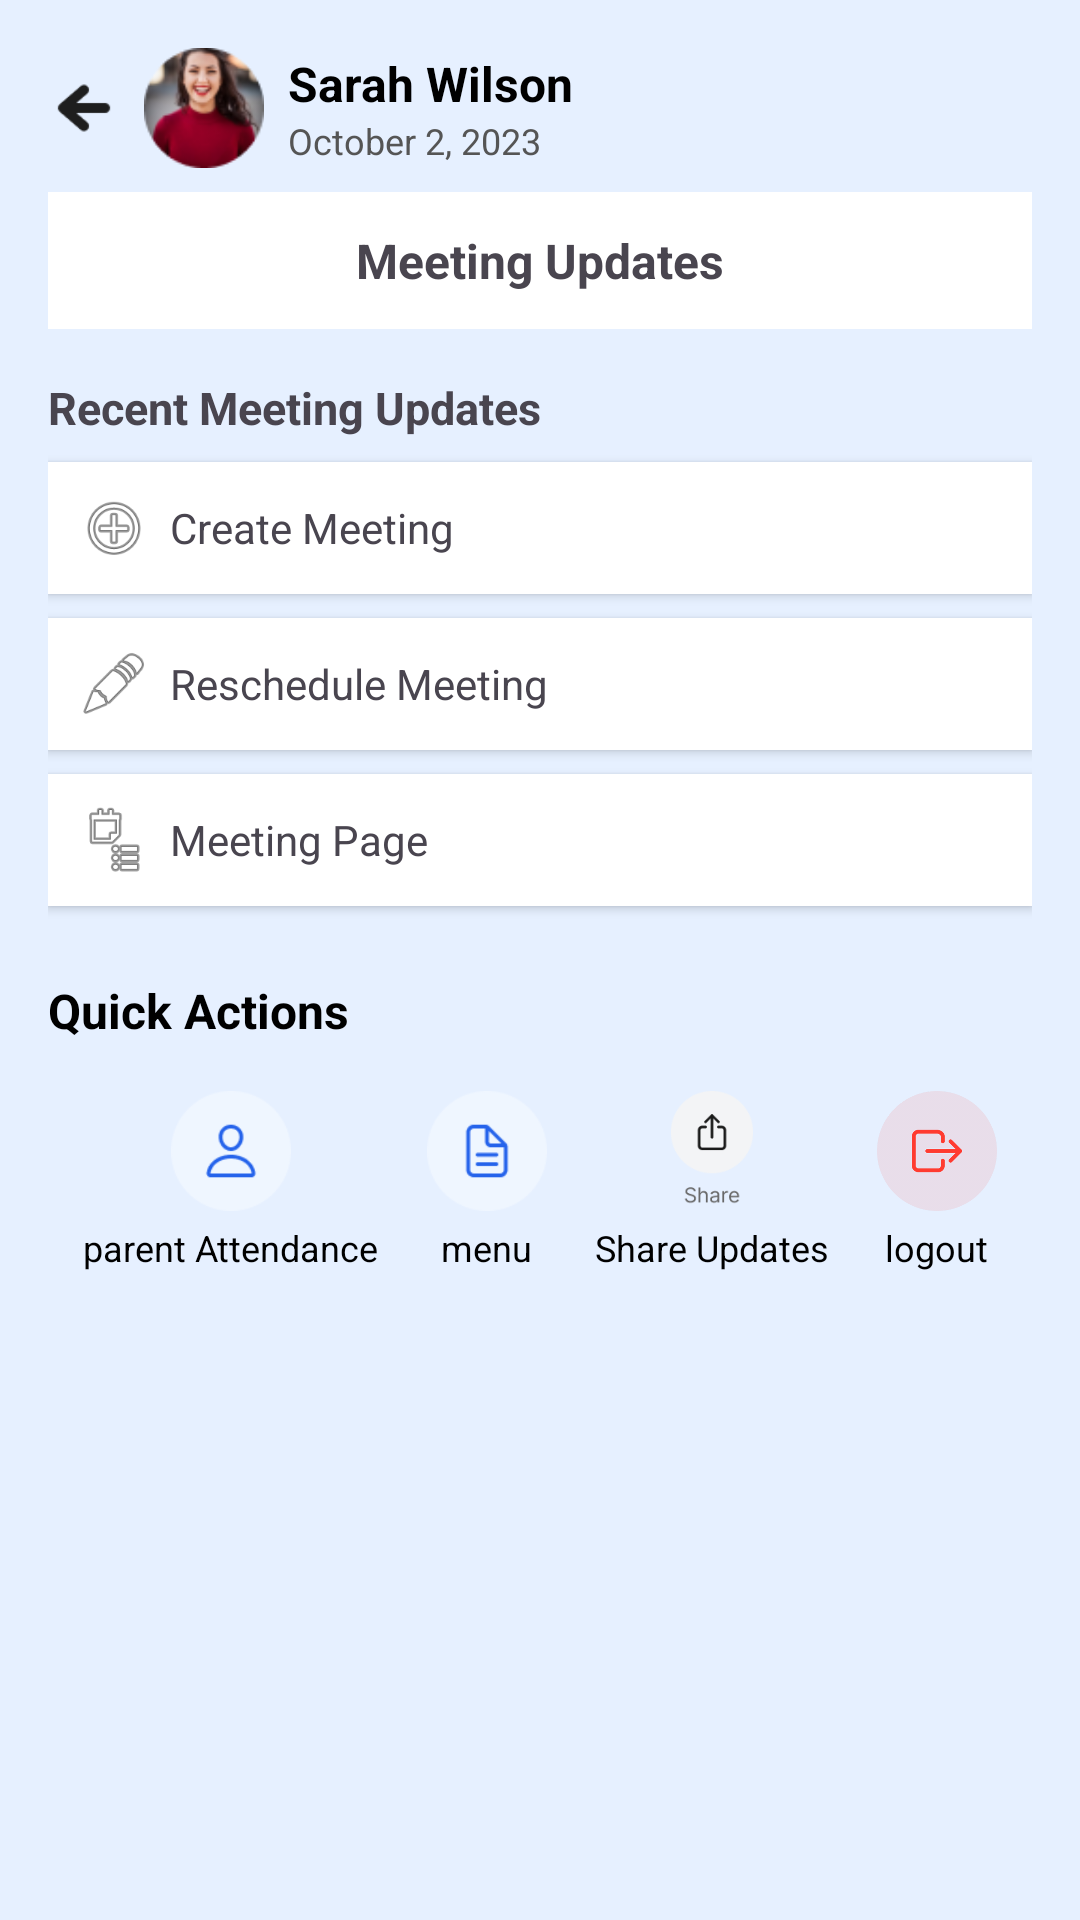

Locate icon controls on the screen. Image size 1080w x 1920h, boxes as (x1, y1, x2, y2).
add: (87, 502, 141, 555)
agenda: (89, 808, 140, 872)
Back: (57, 84, 111, 132)
Course Request: (427, 1091, 547, 1211)
edit: (83, 653, 144, 714)
Mark Attendance: (171, 1091, 291, 1211)
Teacher Photo: (144, 48, 264, 168)
